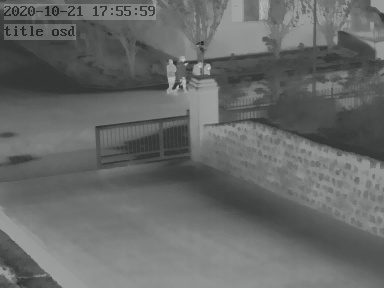person: (165, 56, 177, 92)
